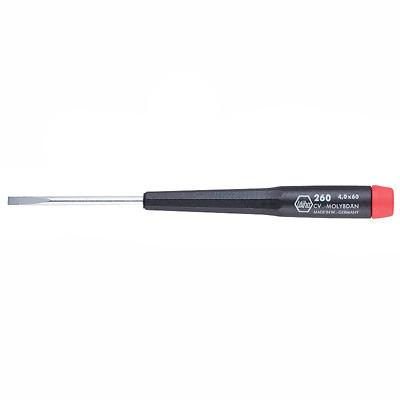Screwdriver: (0, 168, 397, 233)
